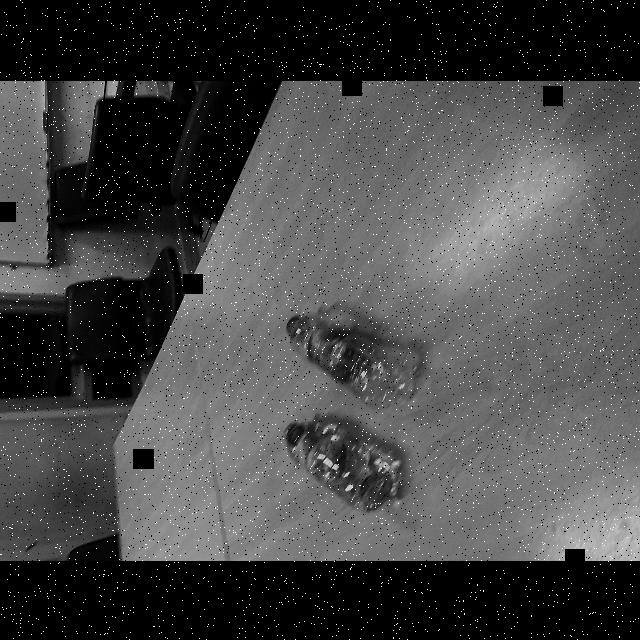plastic_bottle: (284, 309, 416, 406), (283, 418, 392, 510)
plastic_bottle_cap: (286, 314, 310, 338), (284, 421, 306, 443)
